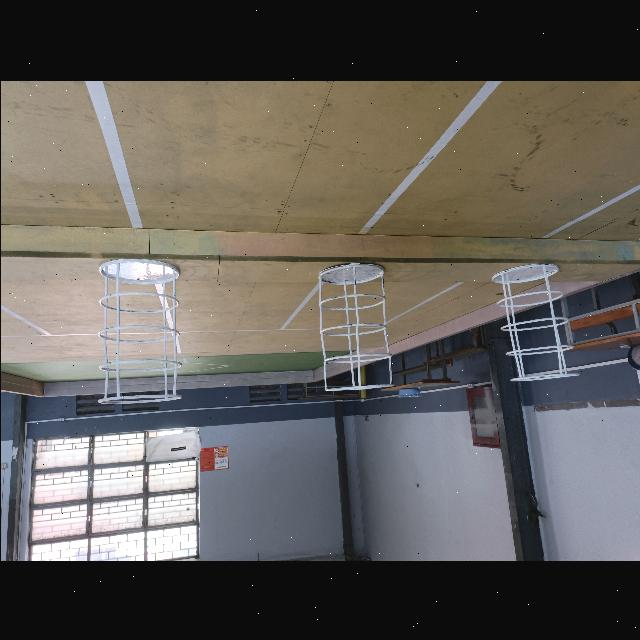S: (97, 255, 181, 408), (489, 262, 580, 383), (316, 257, 393, 392)
